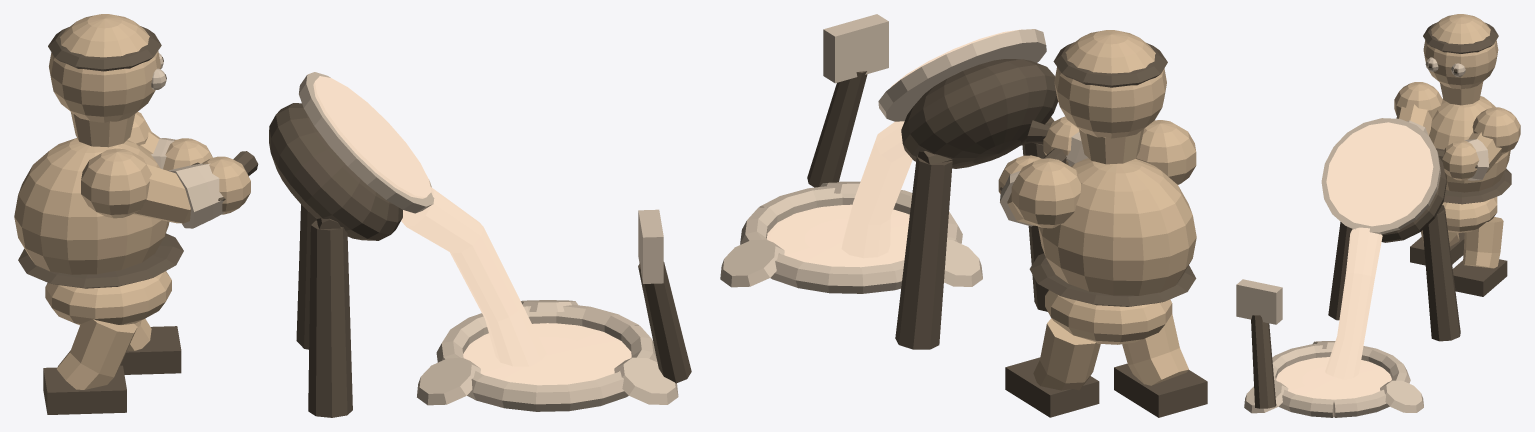
Rendered from boiler_chibi.glb.
3 renders of one model, left to right at view 1: azimuth 30°, elevation 25°; view 2: azimuth 150°, elevation 25°; view 3: azimuth 270°, elevation 25°, orthographic. The views are drawn at different scales.
Visible parts, largest first — view 1: boiler_chibi_body, boiler_chibi_dark, boiler_chibi_bone, boiler_chibi_glow; view 2: boiler_chibi_body, boiler_chibi_dark, boiler_chibi_bone, boiler_chibi_glow; view 3: boiler_chibi_glow, boiler_chibi_body, boiler_chibi_dark, boiler_chibi_bone.
Part boxes in pixels (box(x1,y1,x2,y2)): boiler_chibi_body: box(14, 14, 250, 389); boiler_chibi_dark: box(18, 26, 691, 417); boiler_chibi_bone: box(151, 53, 678, 411); boiler_chibi_glow: box(313, 76, 631, 385); boiler_chibi_body: box(998, 30, 1196, 390); boiler_chibi_dark: box(807, 42, 1207, 417); boiler_chibi_bone: box(720, 14, 1088, 293); boiler_chibi_glow: box(767, 29, 1020, 267); boiler_chibi_glow: box(1276, 122, 1433, 399); boiler_chibi_body: box(1394, 14, 1520, 268); boiler_chibi_dark: box(1251, 22, 1511, 408); boiler_chibi_bone: box(1236, 57, 1488, 417).
Bounding box in the file's own units: 3.65 × 2.45 × 2.48.
